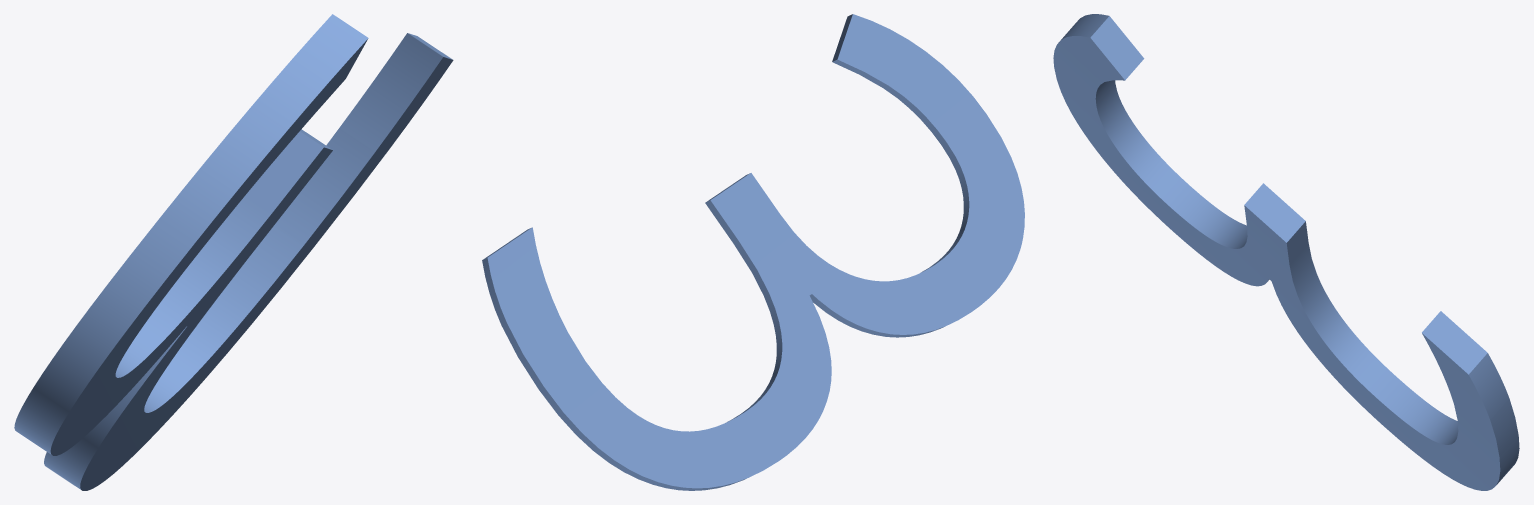
File: New_Number_3.gltf
3 renders of one model, left to right at view 1: azimuth 30°, elevation 25°; view 2: azimuth 150°, elevation 25°; view 3: azimuth 270°, elevation 25°, orthographic. The views are drawn at different scales.
Visible parts, largest first — view 1: Part 354; view 2: Part 354; view 3: Part 354.
Boxes of the visible parts, left/top/right/bottom form: Part 354: left=14, top=14, right=453, bottom=490; Part 354: left=482, top=14, right=1024, bottom=490; Part 354: left=1053, top=14, right=1519, bottom=490.
Bounding box in the file's own units: 0.00454 × 0.00414 × 0.00387.
